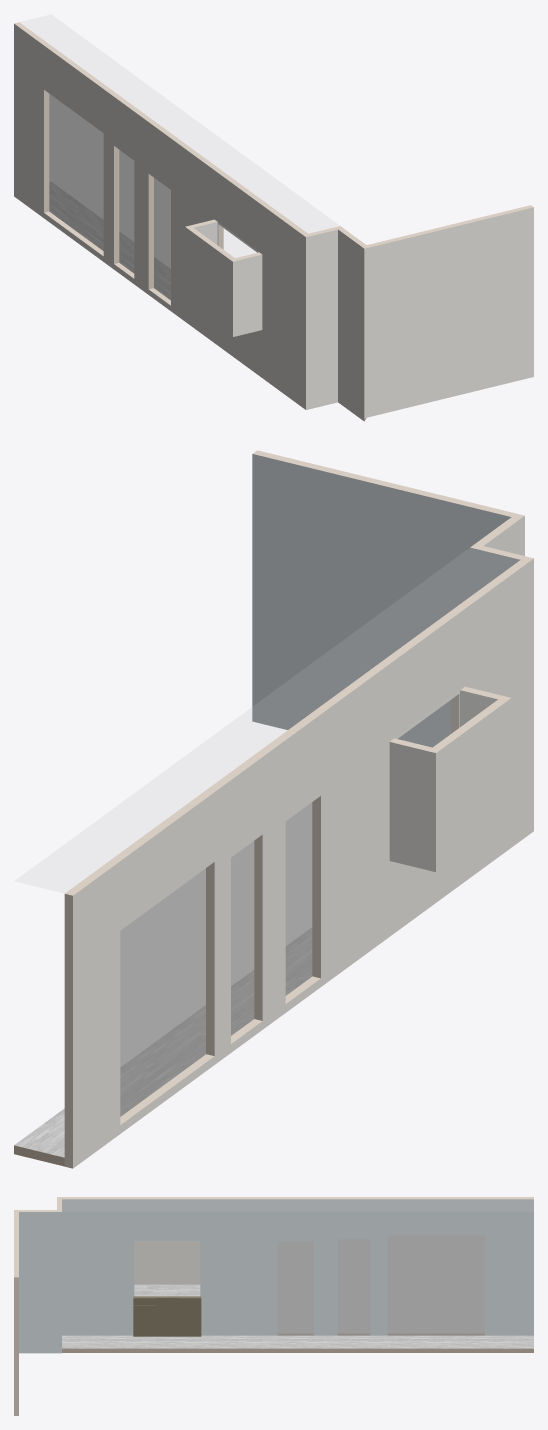
The picture shows the model from 3 angles, top to bottom: view 1: azimuth 30°, elevation 25°; view 2: azimuth 150°, elevation 25°; view 3: azimuth 270°, elevation 25°; orthographic projection. The views are drawn at different scales.
Parts seen in each view (by area): view 1: wall_1 (×2), wall_0 (×3), door_2 (×2), ceiling_Other_0, wall_2, wall_5, wall_4, door_0 (×2), wall_3, wall_8, door_1 (×2), floor_Other_0 (+2 smaller); view 2: wall_0 (×3), wall_1 (×2), door_2 (×2), ceiling_Other_0, wall_2, wall_3, door_0 (×2), wall_8, door_1 (×2), floor_Other_0, wall_6, ceiling_Closet_0 (+2 smaller); view 3: wall_0 (×3), door_2 (×2), wall_2, floor_Other_0 (×2), door_0 (×2), door_1 (×2), ceiling_Other_0, wall_4, wall_8, wall_3, storage0, wall_1 (×2) (+1 smaller).
Part boxes in pixels (x1,y1,x2,y2): wall_1 (×2): [364, 205, 533, 418]; wall_0 (×3): [14, 22, 222, 344]; door_2 (×2): [49, 94, 103, 250]; ceiling_Other_0: [20, 15, 339, 232]; wall_2: [259, 203, 305, 409]; wall_5: [306, 229, 337, 409]; wall_4: [338, 229, 364, 420]; door_0 (×2): [154, 178, 170, 299]; wall_3: [185, 227, 232, 336]; wall_8: [217, 173, 259, 375]; door_1 (×2): [119, 150, 133, 272]; floor_Other_0: [49, 182, 170, 299]; wall_0 (×3): [64, 658, 394, 1168]; wall_1 (×2): [252, 450, 524, 747]; door_2 (×2): [120, 868, 205, 1116]; ceiling_Other_0: [15, 548, 518, 892]; wall_2: [460, 558, 533, 884]; wall_3: [436, 698, 511, 871]; door_0 (×2): [286, 803, 311, 995]; wall_8: [394, 613, 459, 932]; door_1 (×2): [231, 841, 253, 1035]; floor_Other_0: [14, 928, 311, 1157]; wall_6: [389, 742, 435, 871]; ceiling_Closet_0: [396, 690, 496, 746]; wall_0 (×3): [201, 1197, 533, 1335]; door_2 (×2): [388, 1235, 484, 1335]; wall_2: [62, 1199, 133, 1335]; floor_Other_0 (×2): [62, 1335, 533, 1352]; door_0 (×2): [278, 1241, 313, 1335]; door_1 (×2): [338, 1239, 369, 1335]; ceiling_Other_0: [62, 1199, 533, 1211]; wall_4: [19, 1212, 61, 1353]; wall_8: [133, 1199, 201, 1296]; wall_3: [134, 1241, 200, 1284]; storage0: [133, 1297, 201, 1336]; wall_1 (×2): [14, 1210, 18, 1415].
Size of the model in its own units: 4.32 by 3.09 by 10.31.
9 materials, 2 textured.
